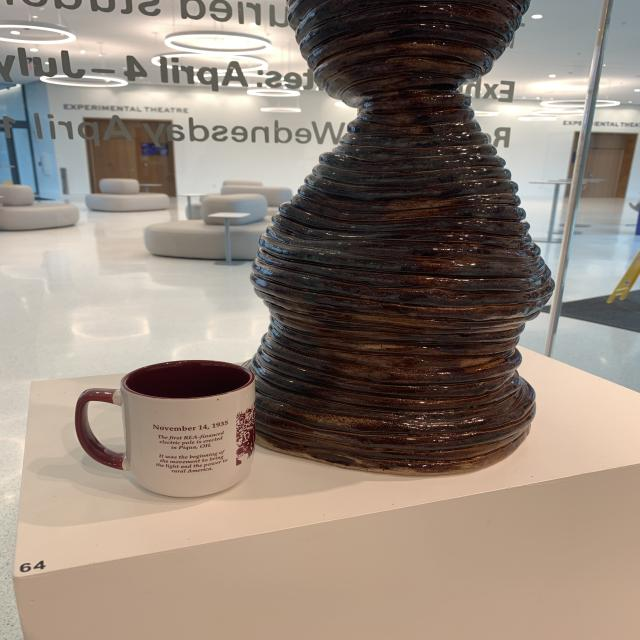Cup: (71, 359, 262, 503)
